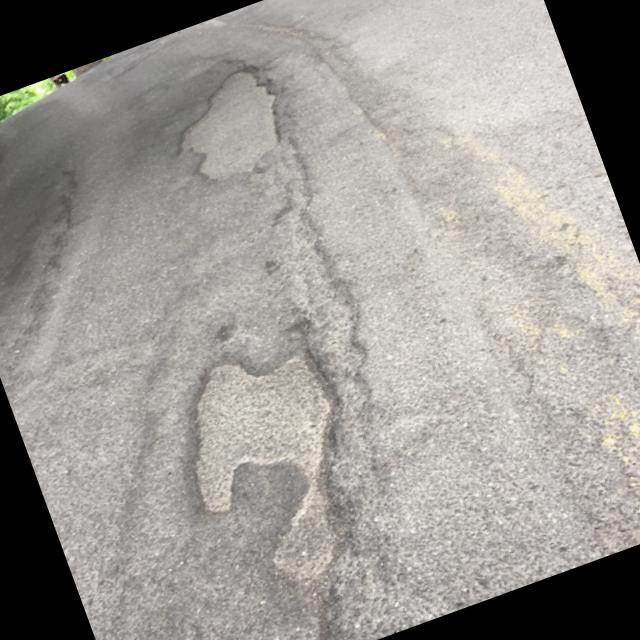Potholes: (126, 256, 486, 616), (108, 38, 334, 222)
